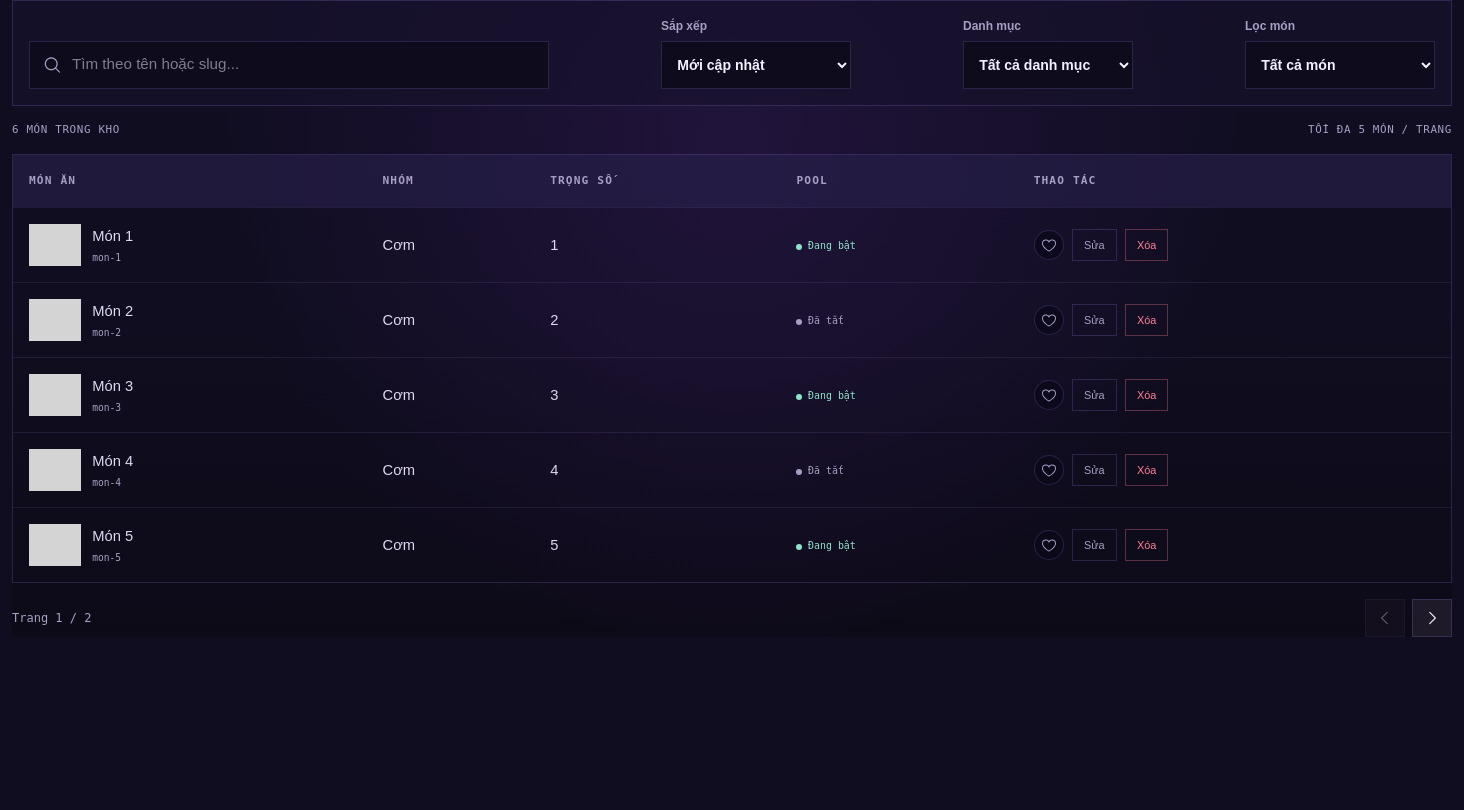
Test case: DishTable › shows five dishes per page and supports search and pagination
Expected: the number of rows is 6, [13,155,1451,207]; [13,207,1451,282]; [13,282,1451,357]; [13,357,1451,432]; [13,432,1451,507]; [13,507,1451,582]
Expected: the text "Trang 1 / 2" is shown, [12,609,92,627]
In the search field: (304, 65) [72,53,535,76], type "Phở"
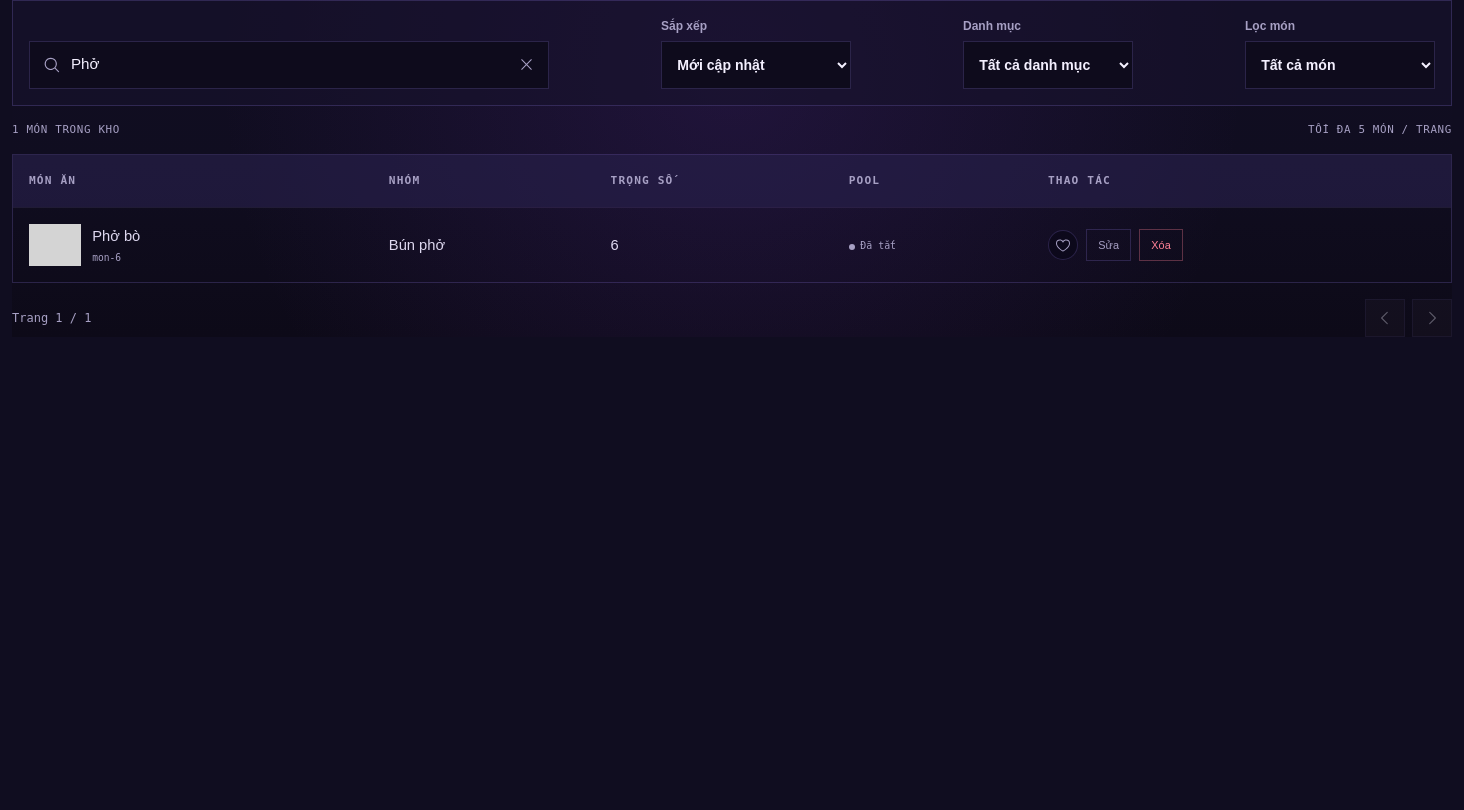
Result: the number of rows is 2 at [13,155,1451,207]; [13,207,1451,282]
Clear the search field: (289, 65) [71,53,508,76]
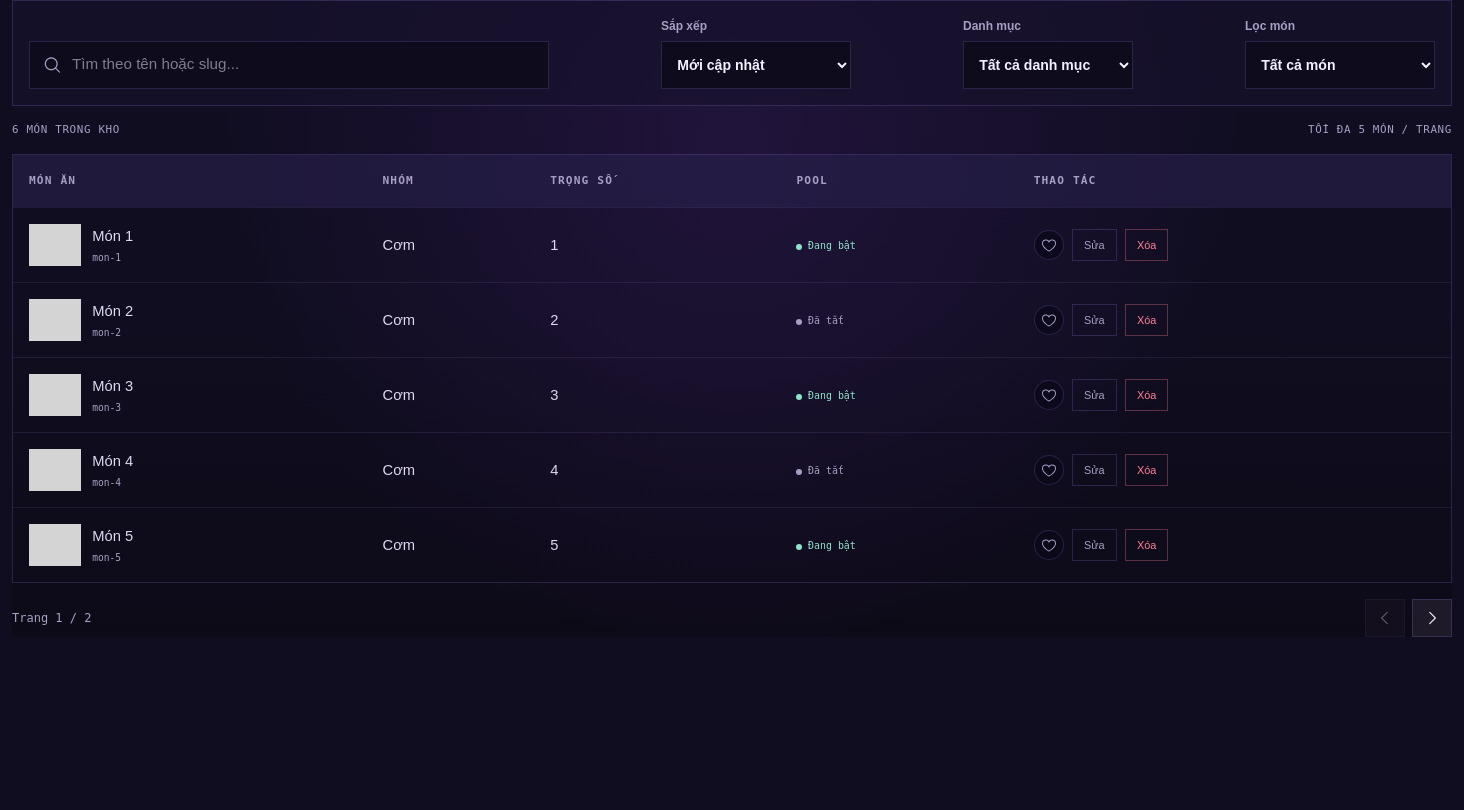
Click the button named "Trang sau": (1432, 618) [1412,599,1452,637]
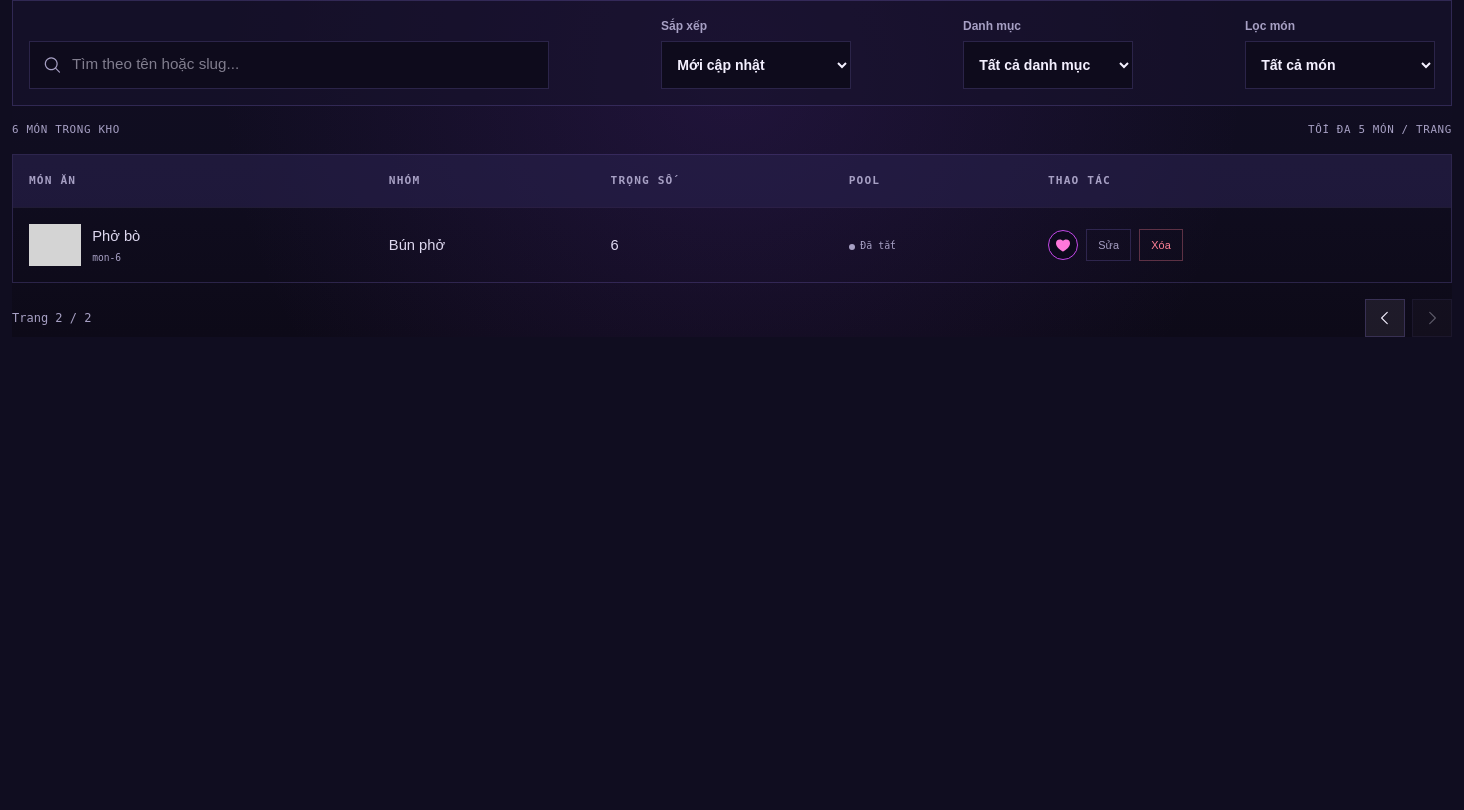
Result: the text "Phở bò" is shown at [92,228,140,244]
